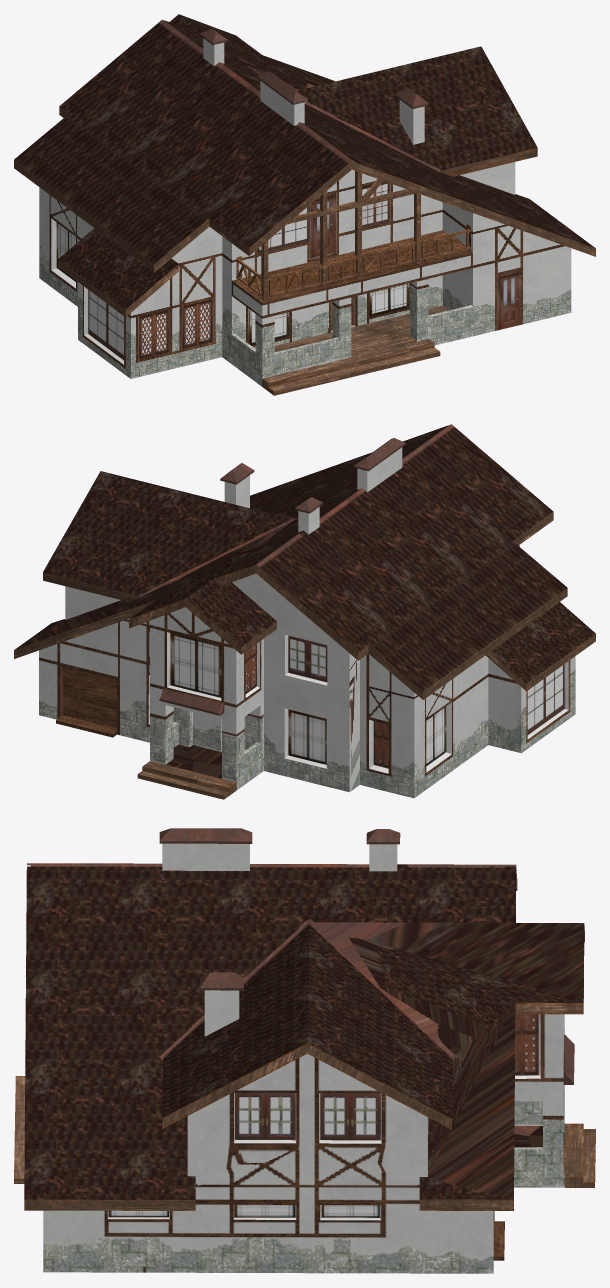
The model's file is Alpine_chalet.glb.
The picture shows the model from 3 angles, top to bottom: view 1: azimuth 30°, elevation 25°; view 2: azimuth 150°, elevation 25°; view 3: azimuth 270°, elevation 25°; orthographic projection. The views are drawn at different scales.
Visible parts, largest first — view 1: Alpine chalet; view 2: Alpine chalet; view 3: Alpine chalet.
Boxes of the visible parts, left/top/right/bottom form: Alpine chalet: left=14, top=14, right=595, bottom=395; Alpine chalet: left=14, top=424, right=595, bottom=799; Alpine chalet: left=14, top=828, right=595, bottom=1273.
Bounding box in the file's own units: 19.67 × 10.46 × 18.13.
Materials: 1 (1 with a texture image).
